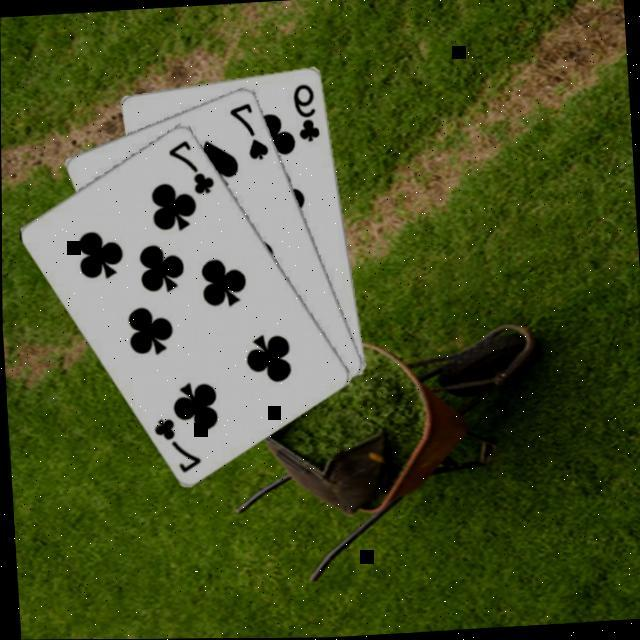7C: (150, 411, 202, 475), (164, 134, 217, 196)
7S: (226, 96, 270, 162)
9C: (289, 78, 322, 143)
